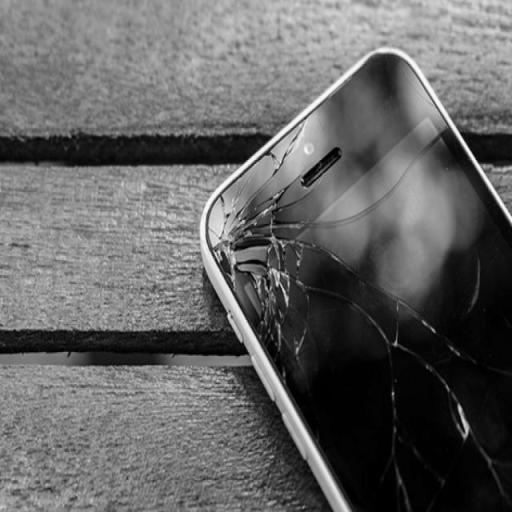phone: (193, 35, 511, 512)
